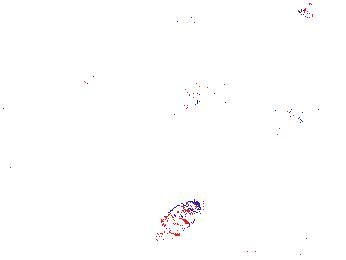X-ray fish: (151, 198, 203, 244), (72, 67, 106, 91)
glassfish: (218, 105, 322, 168)
red belly glassfish: (175, 7, 214, 28), (294, 3, 335, 21), (139, 42, 169, 56)
redtail glassfish: (182, 81, 244, 114), (258, 100, 302, 139)
